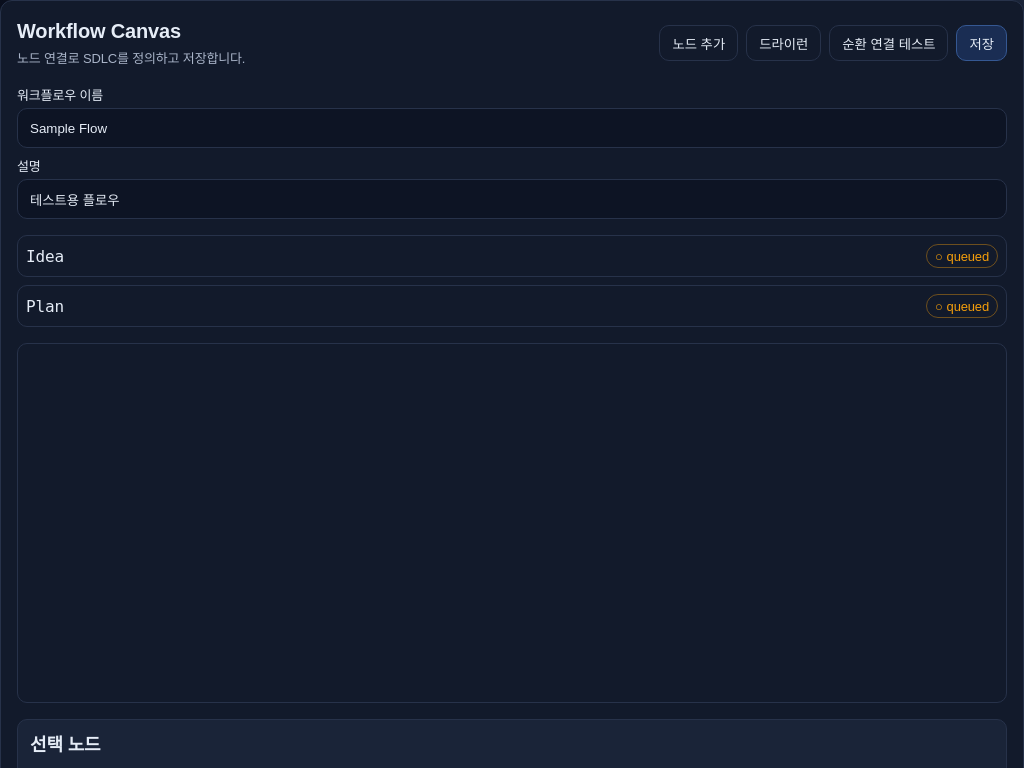
it: WorkflowBuilder › 검증 버튼 클릭 시 서버 검증 결과를 표시한다
Click the button "드라이런" at (784,43), box [746, 25, 821, 61]
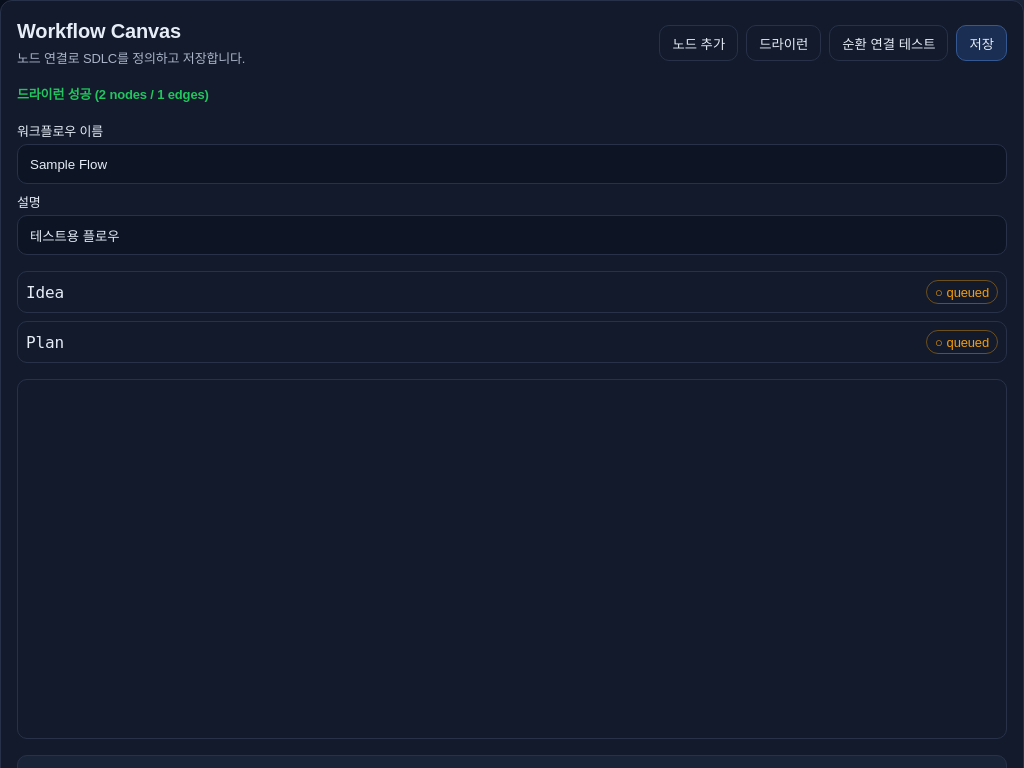
Expected: the text "드라이런 성공 (2 nodes / 1 edges)" is shown, [17, 87, 209, 102]
